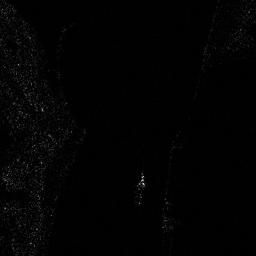ship: (136, 174, 145, 205)
